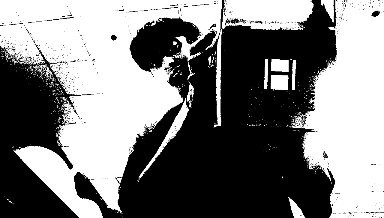H: (261, 58, 296, 92)
